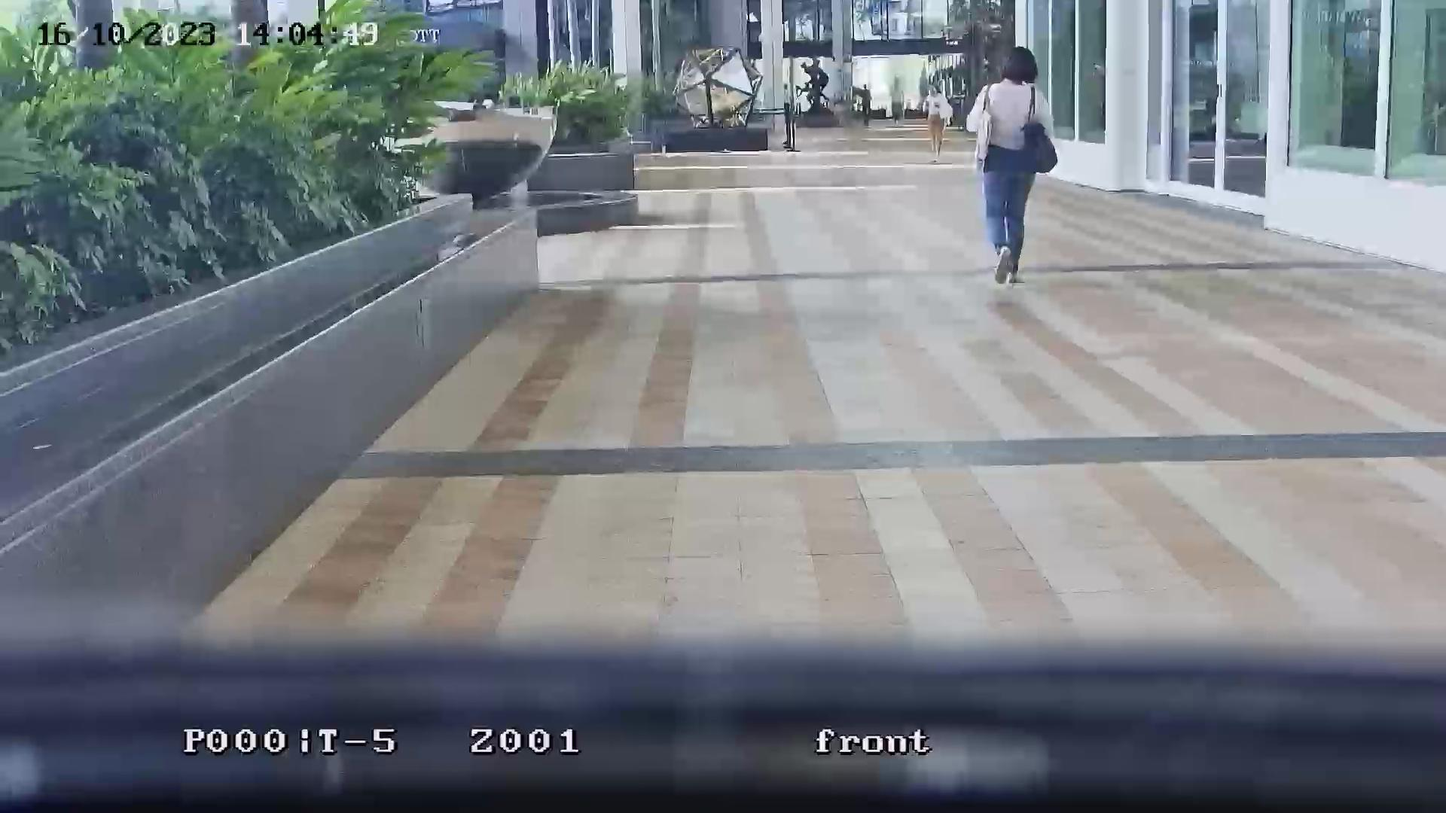person: (970, 47, 1057, 287), (921, 84, 952, 165)
